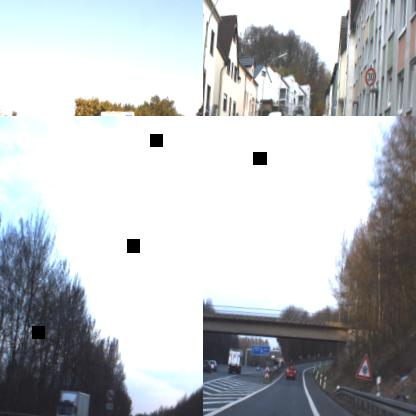SNOW: (355, 352, 375, 380)
no overtaking -trucks-: (104, 384, 116, 404)
speed limit 30: (364, 66, 376, 86)
